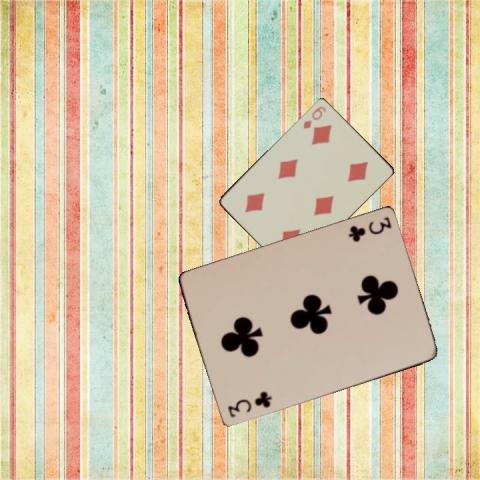3c: (225, 388, 273, 419), (345, 214, 393, 243)
6d: (300, 103, 327, 130)
